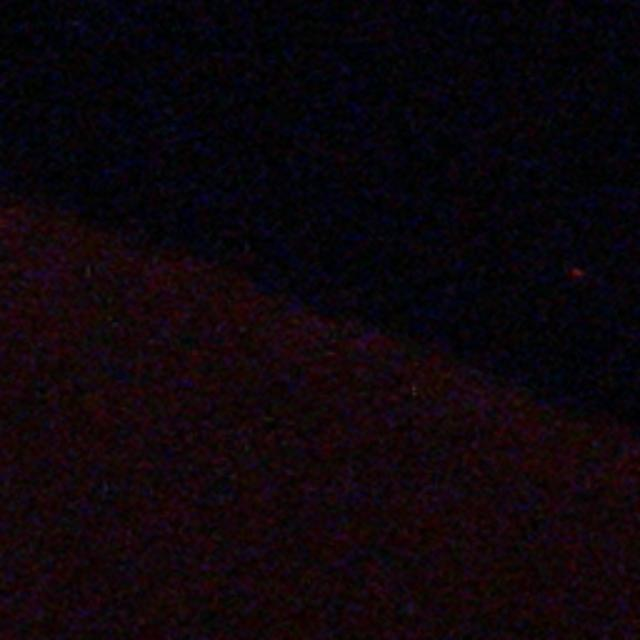Fragment: (568, 266, 584, 280)
